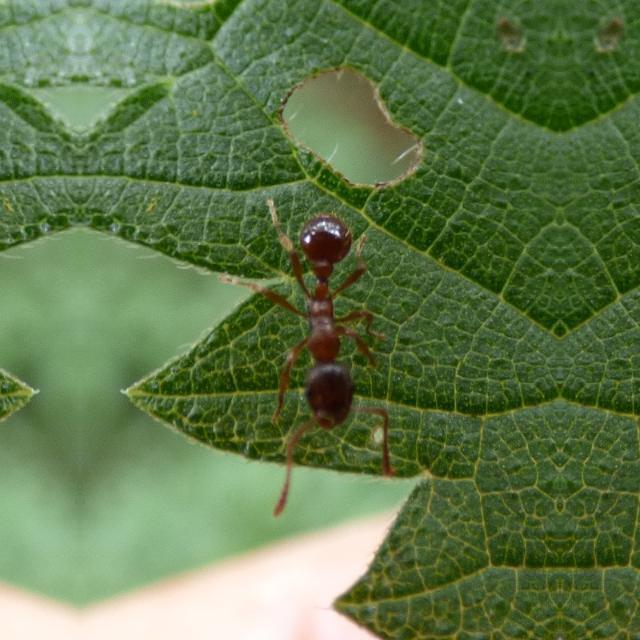Myrmica: (233, 194, 437, 458)
